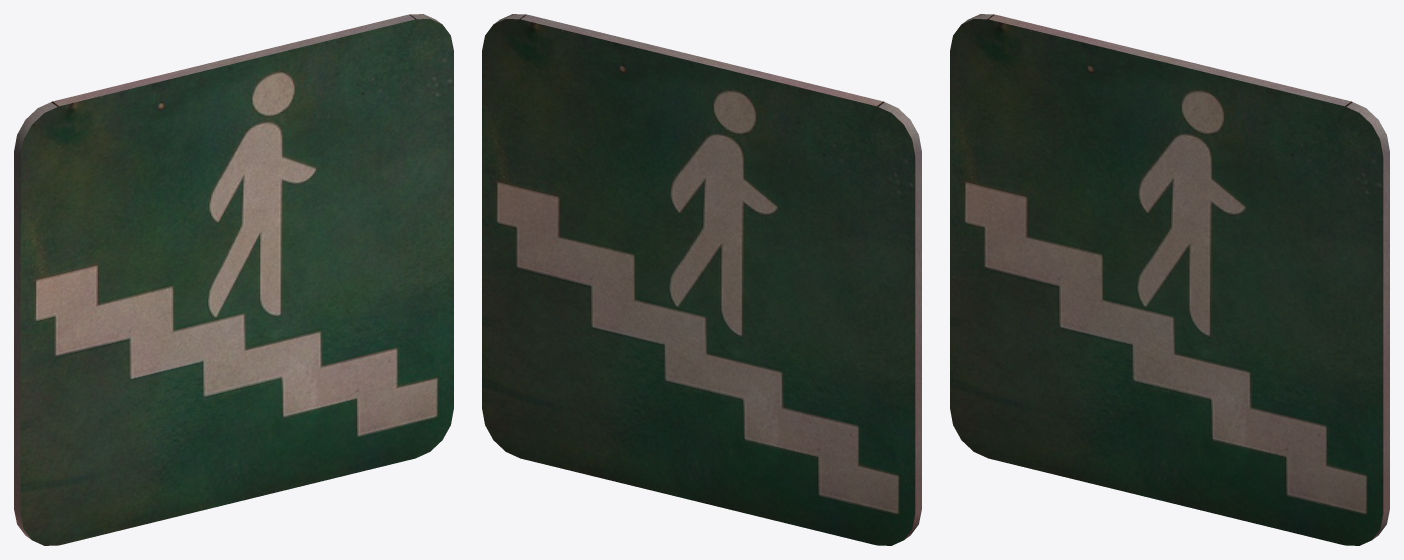
Rendered from sign_stairs.fbx.
3 views of the same model, side by side, from view 1: azimuth 30°, elevation 25°; view 2: azimuth 150°, elevation 25°; view 3: azimuth 330°, elevation 25° (orthographic).
Parts seen in each view (by area): view 1: Mesh; view 2: Mesh; view 3: Mesh.
Boxes of the visible parts, <box> form: Mesh: <box>14,14,453,545</box>; Mesh: <box>482,14,921,545</box>; Mesh: <box>950,14,1389,545</box>.
Bounding box in the file's own units: 83.98 × 81.37 × 2.24.
